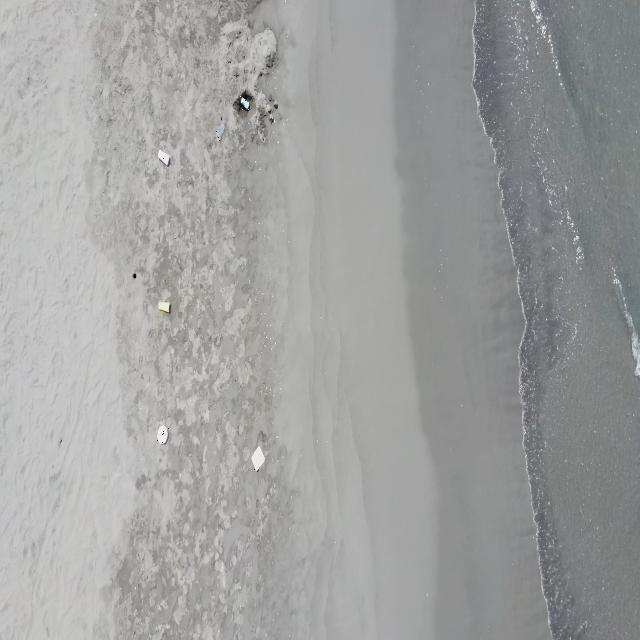take-away-containers: (251, 445, 265, 473), (156, 426, 169, 448)
takeaway-cup: (157, 149, 171, 167), (215, 123, 225, 143), (158, 301, 170, 313), (240, 96, 250, 110)
